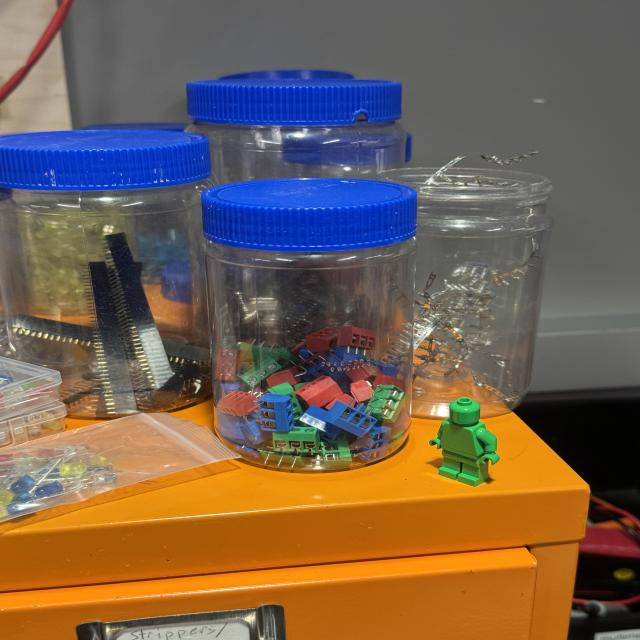Green Mini Figure: (429, 397, 500, 487)
